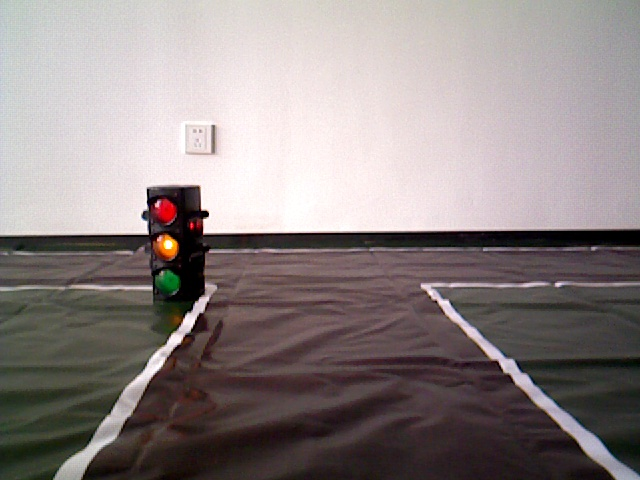yellow: (144, 184, 206, 300)
